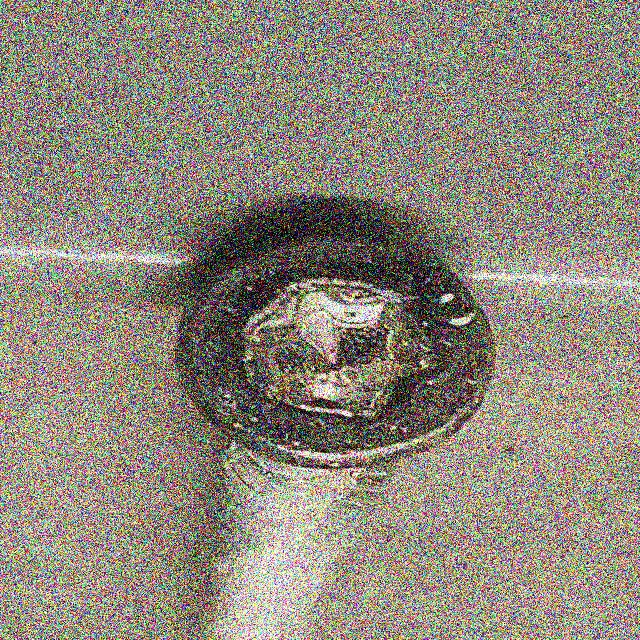torx: (172, 229, 499, 466)
